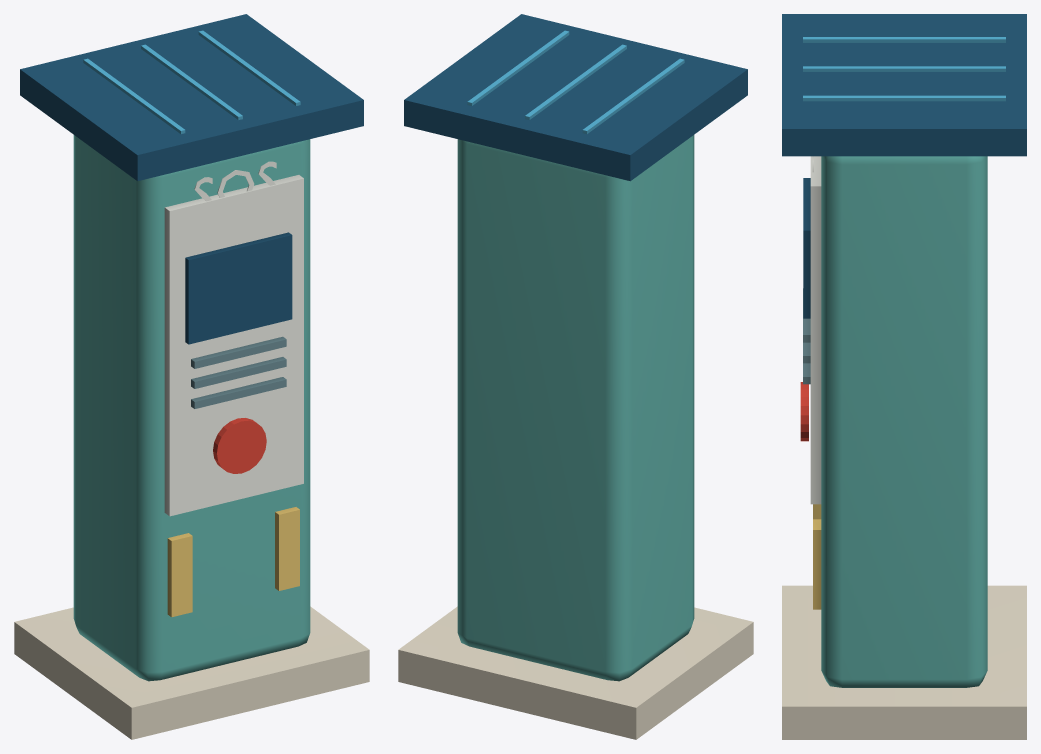
Rendered from assistance-kiosk.glb.
3 renders of one model, left to right at view 1: azimuth 30°, elevation 25°; view 2: azimuth 150°, elevation 25°; view 3: azimuth 270°, elevation 25°, orthographic. The views are drawn at different scales.
Parts seen in each view (by area): view 1: emergency kiosk, video screen, kiosk fascia, assistance plinth, night reflector, speaker slot, solar cell seam, help button; view 2: emergency kiosk, video screen, assistance plinth, solar cell seam; view 3: emergency kiosk, video screen, assistance plinth, kiosk fascia, solar cell seam, night reflector, speaker slot, help button.
Part boxes in pixels (x1=…): emergency kiosk: x1=73, y1=135, x2=310, y2=681; video screen: x1=20, y1=14, x2=363, y2=344; kiosk fascia: x1=164, y1=161, x2=303, y2=516; assistance plinth: x1=14, y1=606, x2=369, y2=739; night reflector: x1=167, y1=507, x2=299, y2=617; speaker slot: x1=191, y1=336, x2=286, y2=408; solar cell seam: x1=83, y1=30, x2=300, y2=133; help button: x1=213, y1=418, x2=266, y2=473; emergency kiosk: x1=457, y1=135, x2=694, y2=681; video screen: x1=404, y1=14, x2=747, y2=181; assistance plinth: x1=398, y1=606, x2=753, y2=739; solar cell seam: x1=467, y1=30, x2=684, y2=133; emergency kiosk: x1=821, y1=156, x2=987, y2=687; video screen: x1=782, y1=14, x2=1026, y2=318; assistance plinth: x1=782, y1=585, x2=1026, y2=739; kiosk fascia: x1=810, y1=156, x2=821, y2=504; solar cell seam: x1=803, y1=37, x2=1005, y2=101; night reflector: x1=813, y1=504, x2=821, y2=609; speaker slot: x1=803, y1=288, x2=810, y2=384; help button: x1=800, y1=382, x2=808, y2=441.
Bounding box in the file's own units: 0.62 × 1.46 × 0.53.
